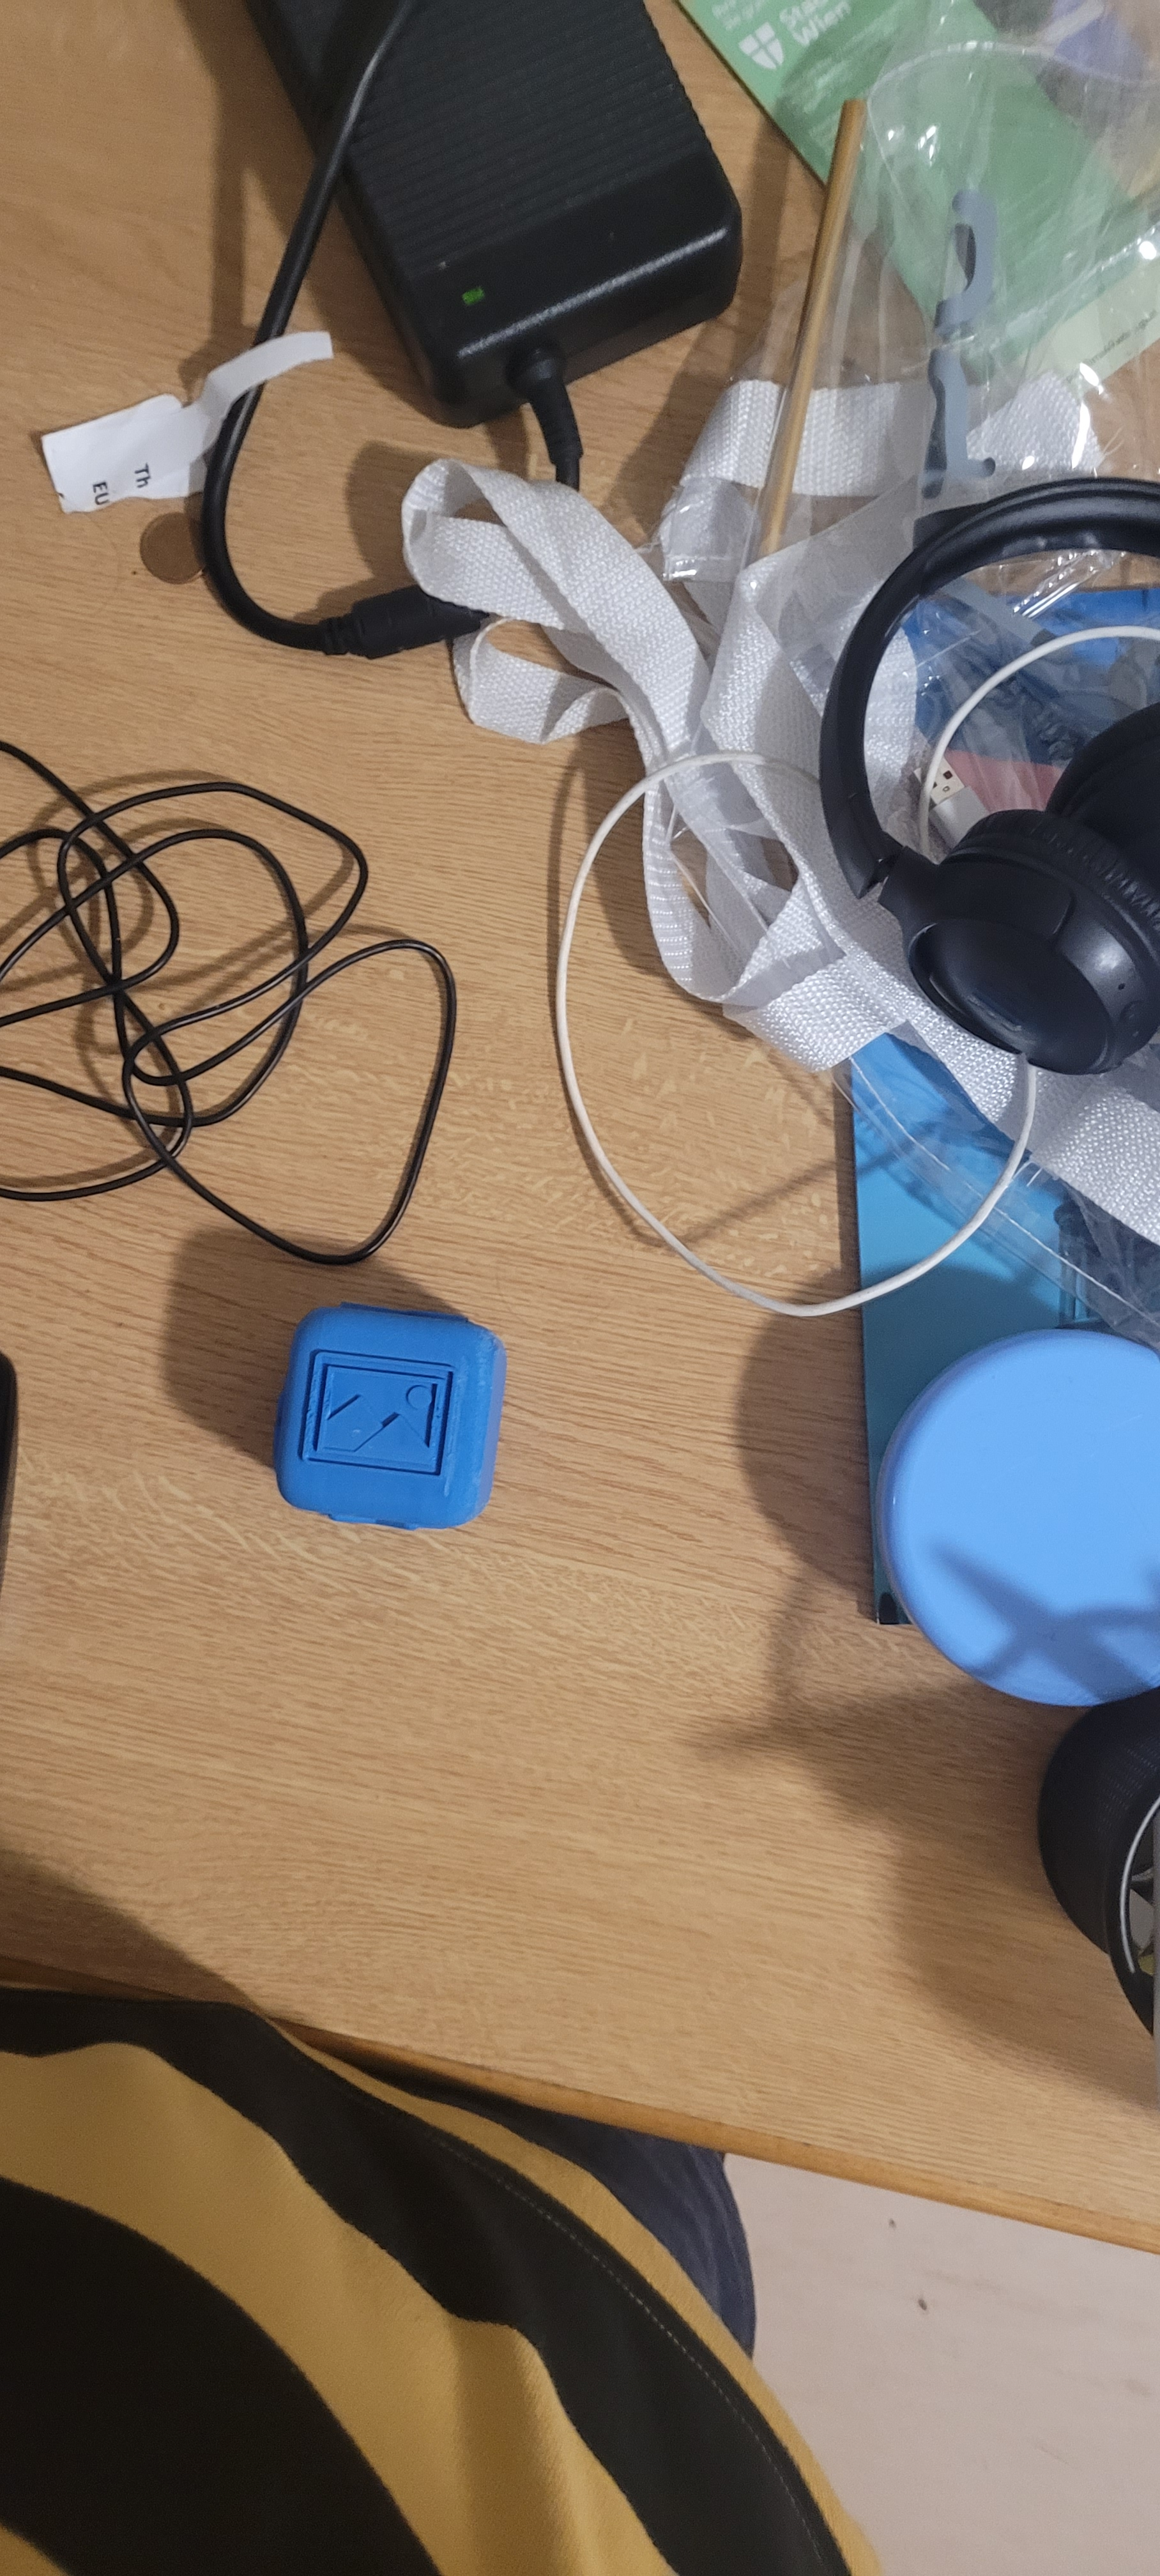Story: (271, 1321, 496, 1510)
